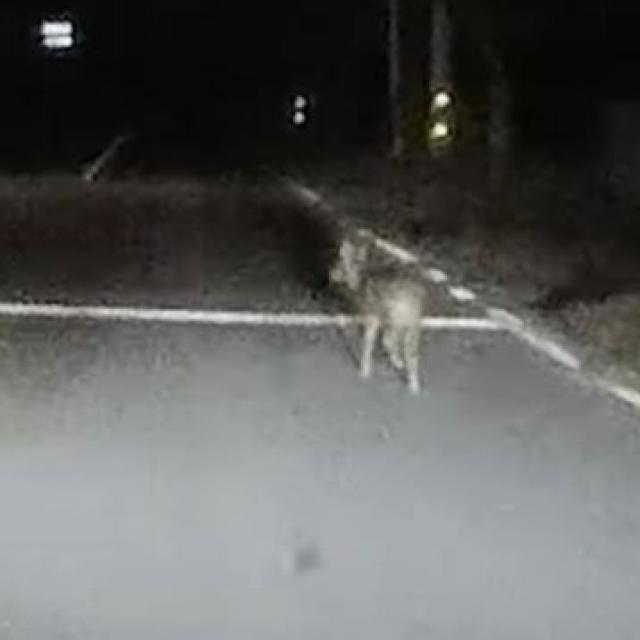elk: (295, 228, 471, 415)
